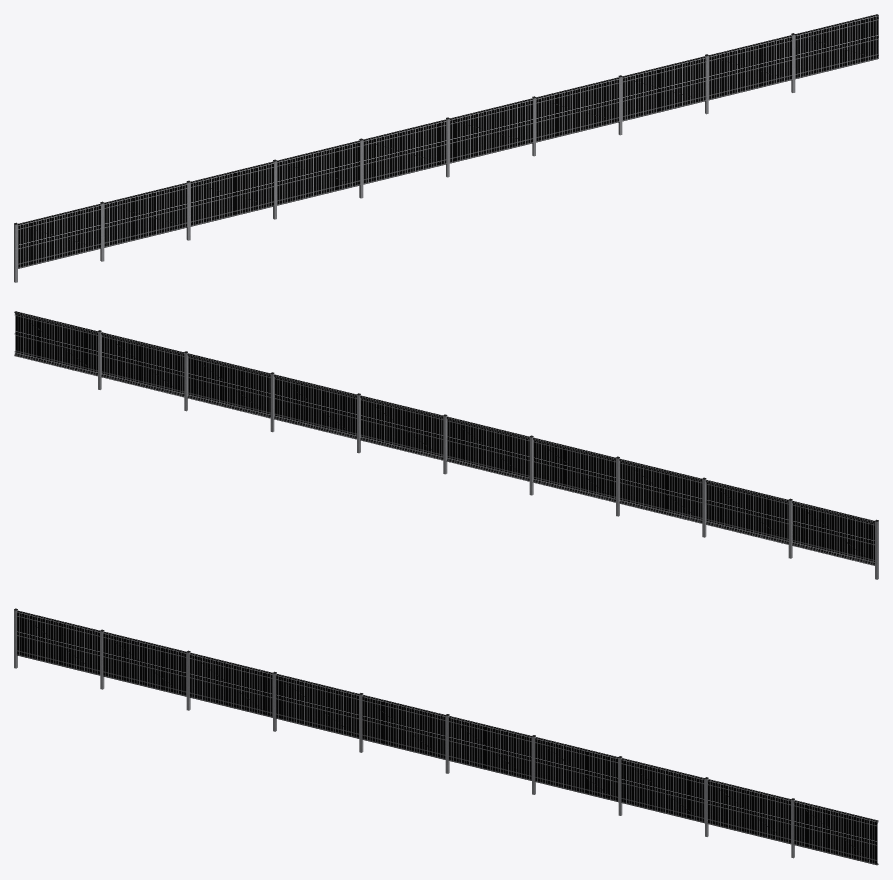
File: fence-mesh-grey-10s-cbj_LOD00.gltf
3 renders of one model, top to bottom at view 1: azimuth 30°, elevation 25°; view 2: azimuth 150°, elevation 25°; view 3: azimuth 330°, elevation 25°, orthographic.
Visible parts, largest first — view 1: post; view 2: post; view 3: post.
Boxes of the visible parts, box(x1,y1,x2,y2) form: post: box(14, 14, 878, 282); post: box(14, 311, 878, 579); post: box(14, 608, 878, 865).
Bounding box in the file's own units: 24.7 × 1.6 × 0.0702.
